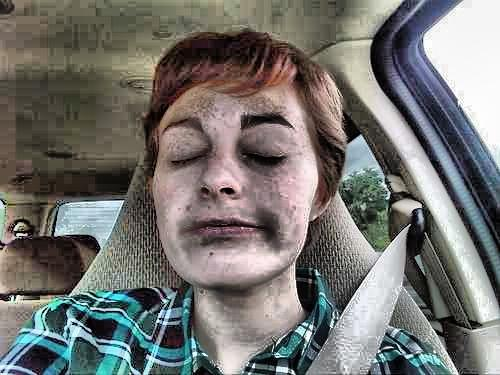seatbelt: (292, 201, 433, 375)
